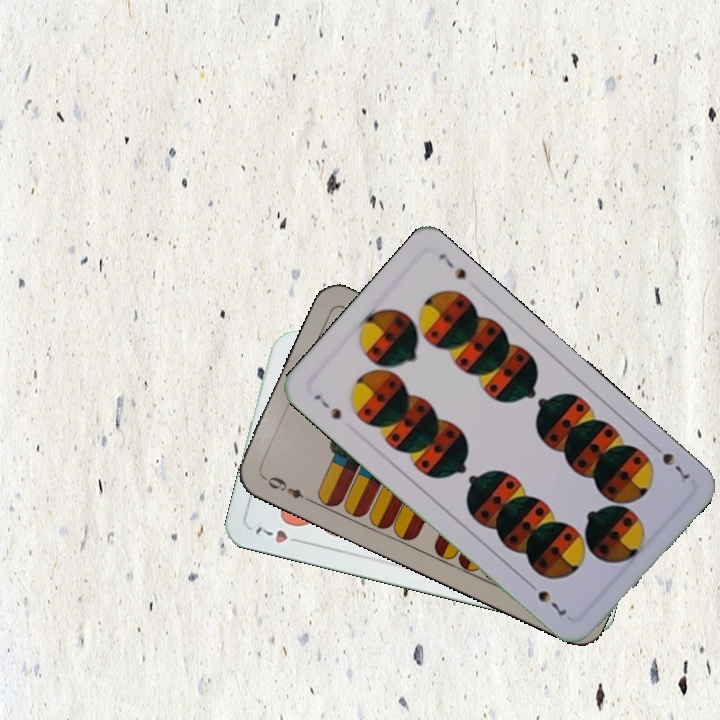E9: (259, 472, 314, 505)
H7: (251, 522, 307, 546)
S7: (647, 439, 695, 485), (310, 390, 344, 423)
